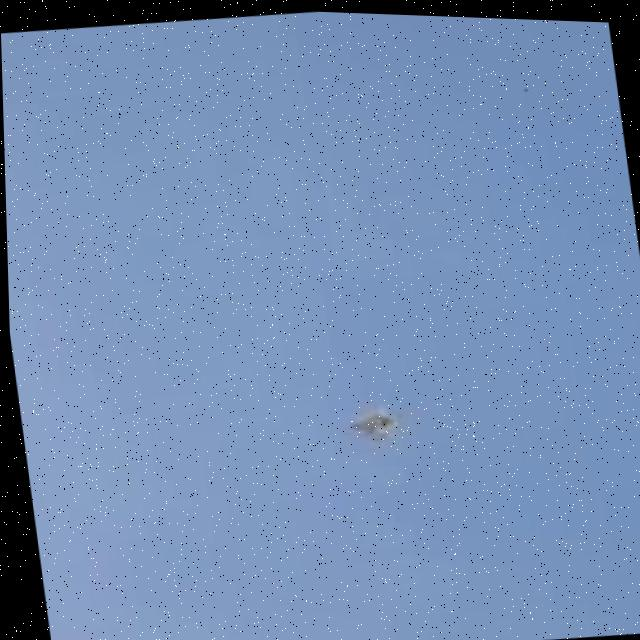drones: (323, 387, 410, 445)
